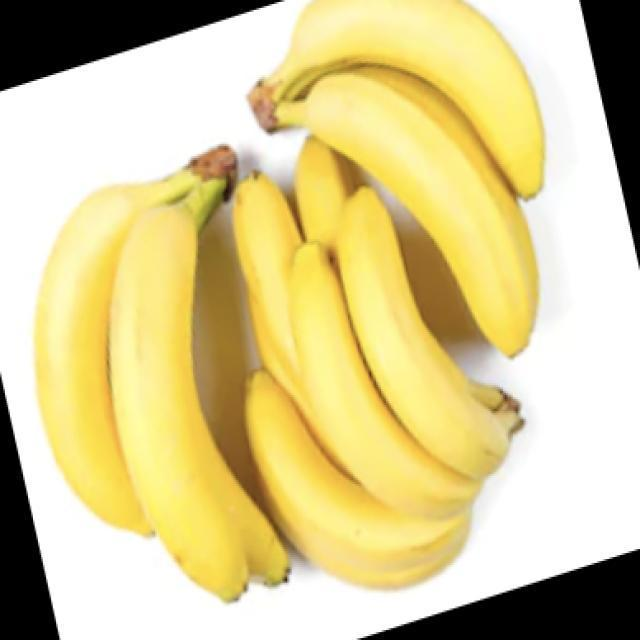Banana: (34, 0, 550, 589)
